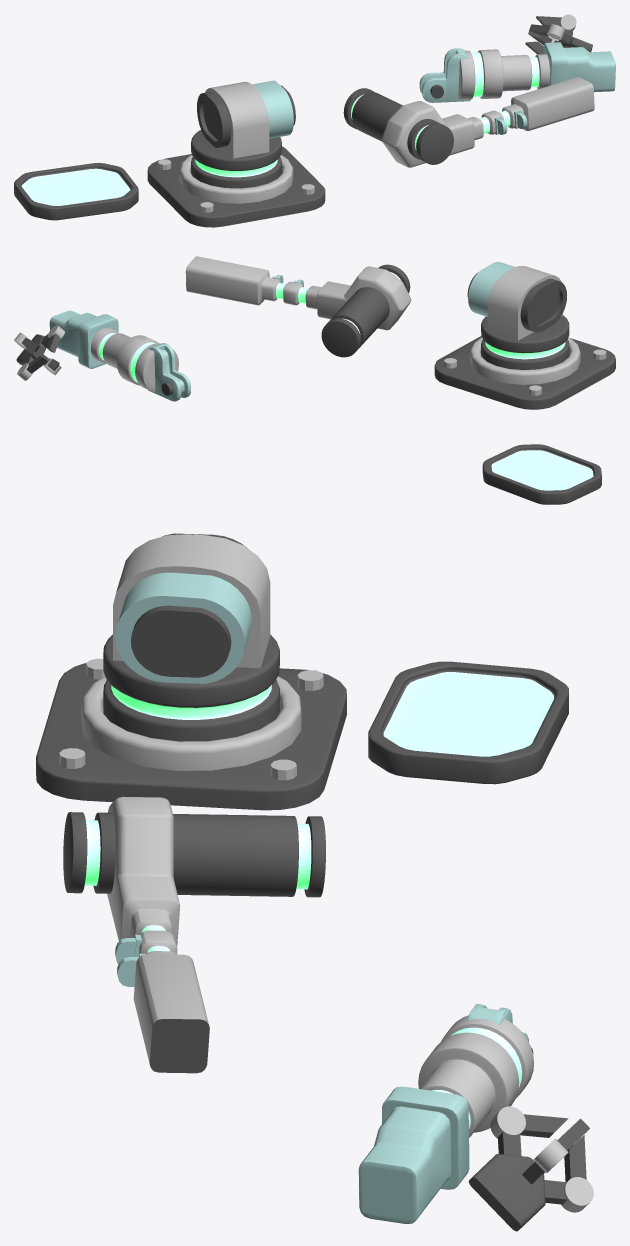
File: BureauAutomaticienRoboticien.fbx
3 renders of one model, top to bottom at view 1: azimuth 30°, elevation 25°; view 2: azimuth 150°, elevation 25°; view 3: azimuth 270°, elevation 25°, orthographic. The views are drawn at different scales.
Parts seen in each view (by area): view 1: Cube.001; view 2: Cube.001; view 3: Cube.001.
Boxes of the visible parts, x1=… form: Cube.001: x1=14, y1=14, x2=615, y2=227; Cube.001: x1=14, y1=256, x2=615, y2=504; Cube.001: x1=36, y1=533, x2=593, y2=1231.
Bounding box in the file's own units: 194 × 44.38 × 82.99.
